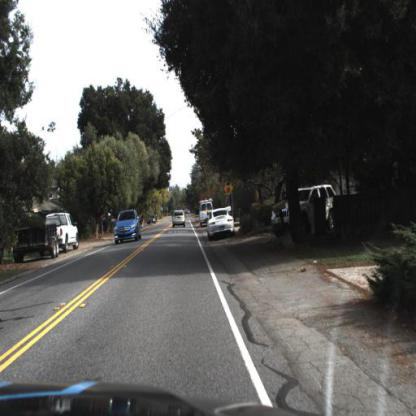car: (271, 182, 346, 245), (14, 209, 80, 263), (112, 209, 145, 245), (204, 208, 236, 242), (171, 209, 187, 231), (200, 197, 214, 220)
